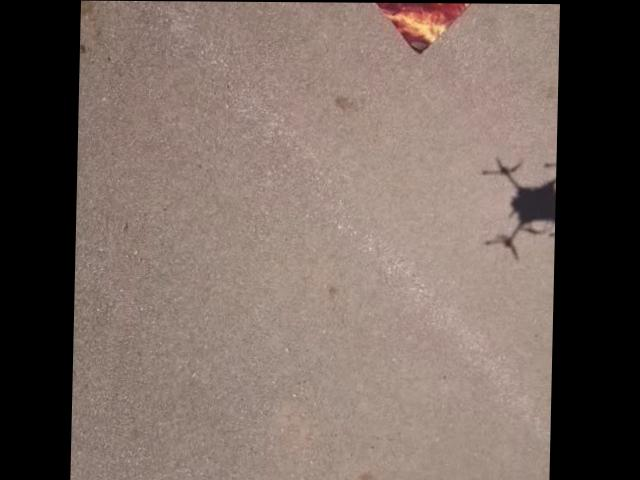fire-poster: (353, 2, 507, 55)
